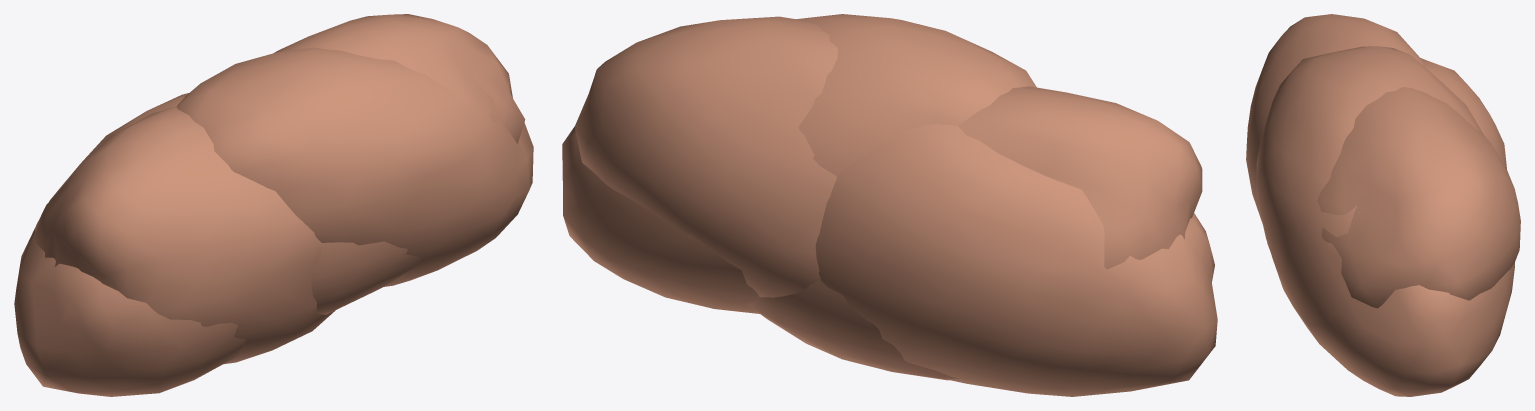
File: potato.fbx
3 renders of one model, left to right at view 1: azimuth 30°, elevation 25°; view 2: azimuth 150°, elevation 25°; view 3: azimuth 270°, elevation 25°, orthographic. The views are drawn at different scales.
Visible parts, largest first — view 1: PotatoE, PotatoD, PotatoB, PotatoC; view 2: PotatoB, PotatoC, PotatoE, PotatoD; view 3: PotatoE, PotatoC, PotatoD, PotatoB.
Boxes of the visible parts, x1,y1,x2,y2 form: PotatoE: (177, 47, 533, 286); PotatoD: (34, 106, 335, 364); PotatoB: (14, 93, 245, 396); PotatoC: (274, 14, 525, 314); PotatoB: (815, 123, 1217, 396); PotatoC: (575, 16, 838, 297); PotatoE: (562, 14, 1036, 313); PotatoD: (747, 86, 1202, 380); PotatoE: (1256, 46, 1514, 396); PotatoC: (1267, 87, 1520, 308); PotatoD: (1246, 14, 1423, 223); PotatoB: (1421, 58, 1506, 169).
Bounding box in the file's own units: 1469 × 736 × 670.
